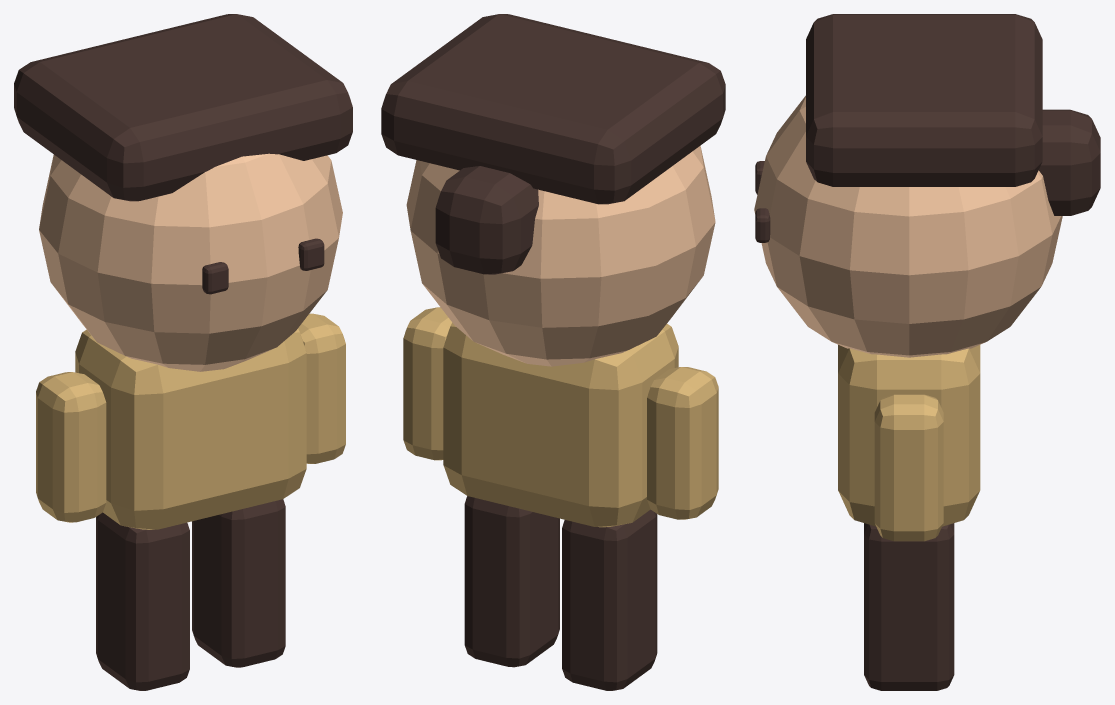
File: kar_warga_laras.fbx
3 renders of one model, left to right at view 1: azimuth 30°, elevation 25°; view 2: azimuth 150°, elevation 25°; view 3: azimuth 270°, elevation 25°, orthographic.
Parts seen in each view (by area): view 1: kar_warga_laras; view 2: kar_warga_laras; view 3: kar_warga_laras.
Boxes of the visible parts, <box> form: kar_warga_laras: <box>14,14,352,690</box>; kar_warga_laras: <box>381,14,725,690</box>; kar_warga_laras: <box>754,14,1100,690</box>.
Size of the model in its own units: 79 by 152 by 80.5.
1 material, 1 textured.
